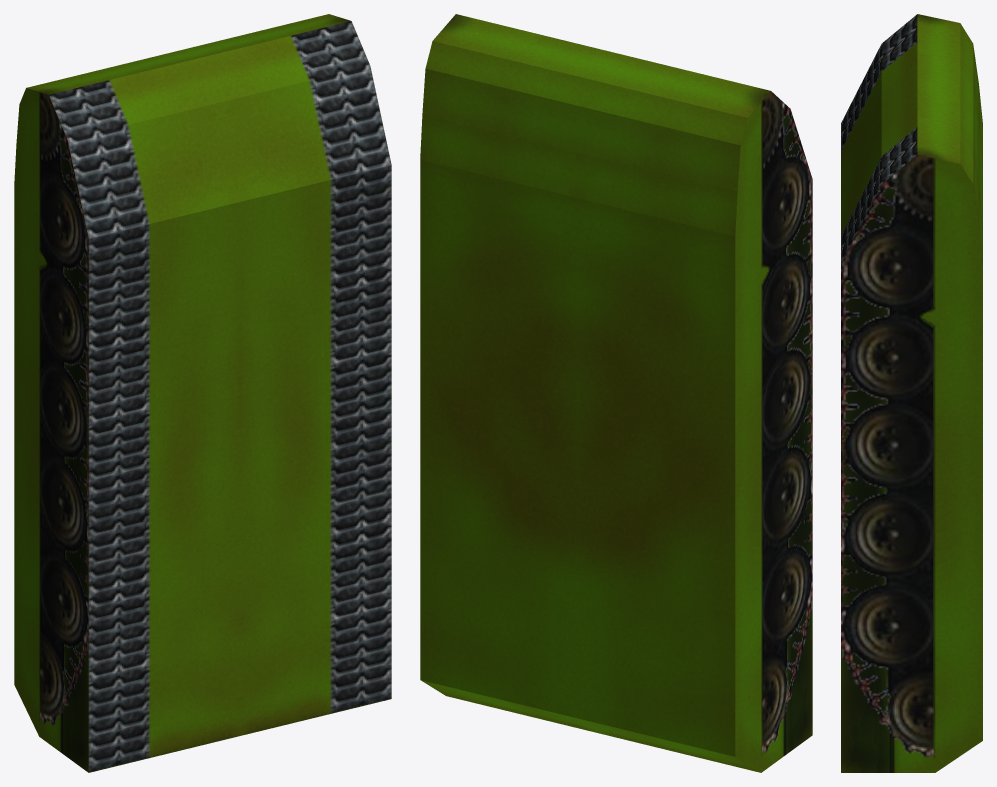
The model's file is TankBottom.fbx.
3 renders of one model, left to right at view 1: azimuth 30°, elevation 25°; view 2: azimuth 150°, elevation 25°; view 3: azimuth 270°, elevation 25°, orthographic. The views are drawn at different scales.
Parts seen in each view (by area): view 1: TankBottom; view 2: TankBottom; view 3: TankBottom.
Boxes of the visible parts, x1,y1,x2,y2 form: TankBottom: (14,14,391,772); TankBottom: (420,14,812,772); TankBottom: (841,14,982,772).
Bounding box in the file's own units: 33.23 × 14.14 × 68.
Materials: 1 (1 with a texture image).
